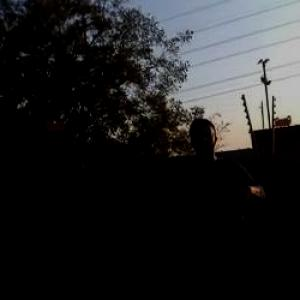follow: (168, 110, 276, 299)
